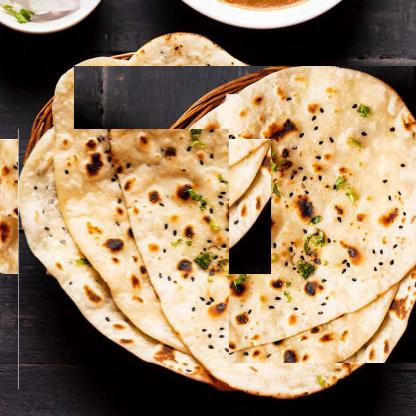naan: (91, 47, 416, 380), (18, 129, 229, 390), (14, 99, 231, 315)
